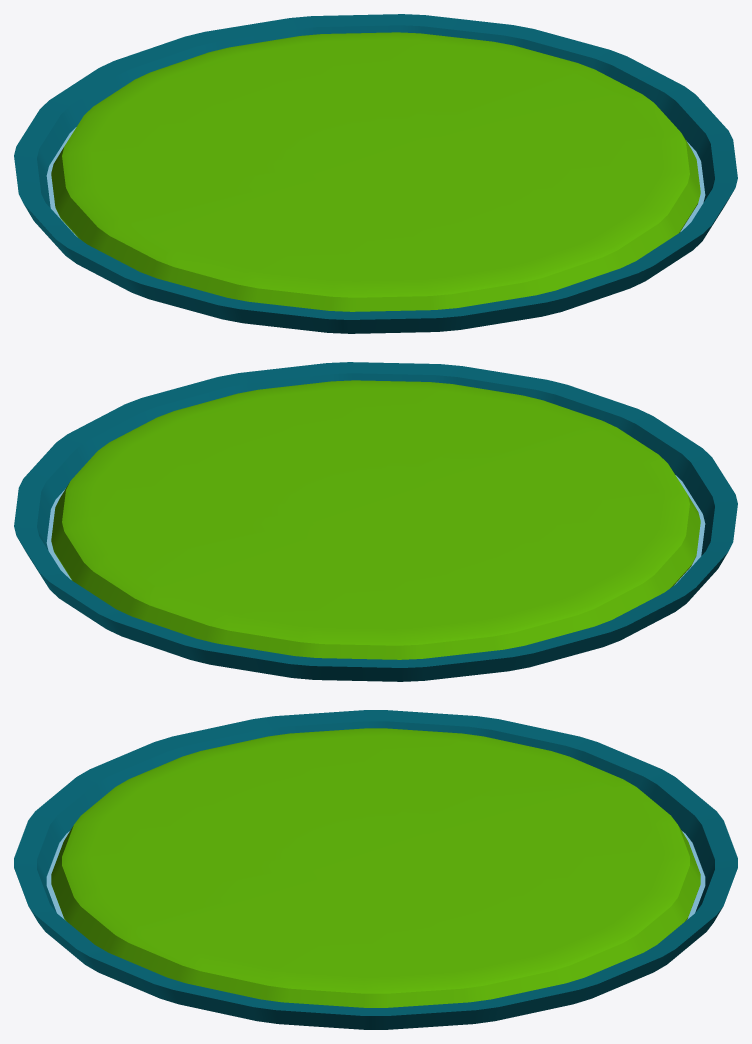
Rendered from ButtonGreen.fbx.
3 renders of one model, top to bottom at view 1: azimuth 30°, elevation 25°; view 2: azimuth 150°, elevation 25°; view 3: azimuth 270°, elevation 25°, orthographic.
Parts seen in each view (by area): view 1: polySurface30; view 2: polySurface30; view 3: polySurface30.
Part boxes in pixels (bbox=[...]): polySurface30: bbox=[14, 14, 737, 333]; polySurface30: bbox=[14, 362, 737, 681]; polySurface30: bbox=[14, 710, 737, 1029].
Bounding box in the file's own units: 97.54 × 5.59 × 97.54.
